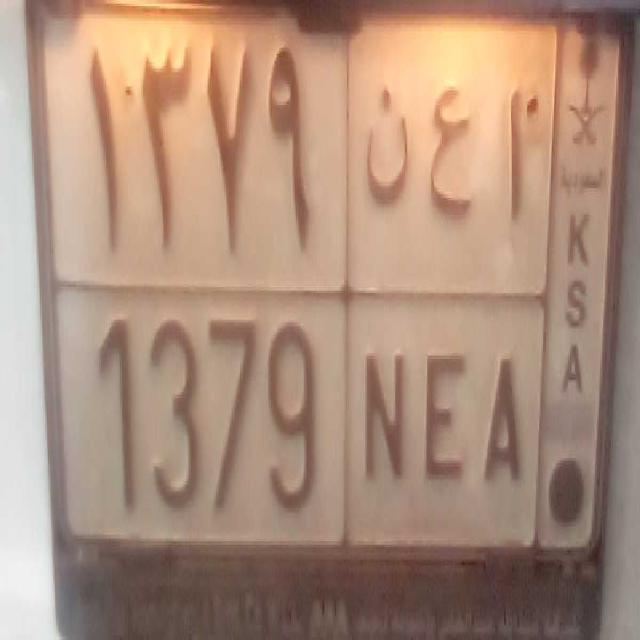license_plate: (62, 277, 536, 547)
